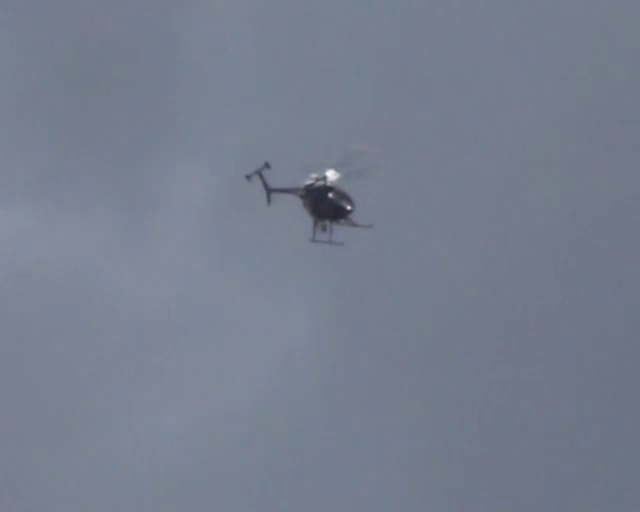HELICOPTER: (243, 159, 375, 245)
